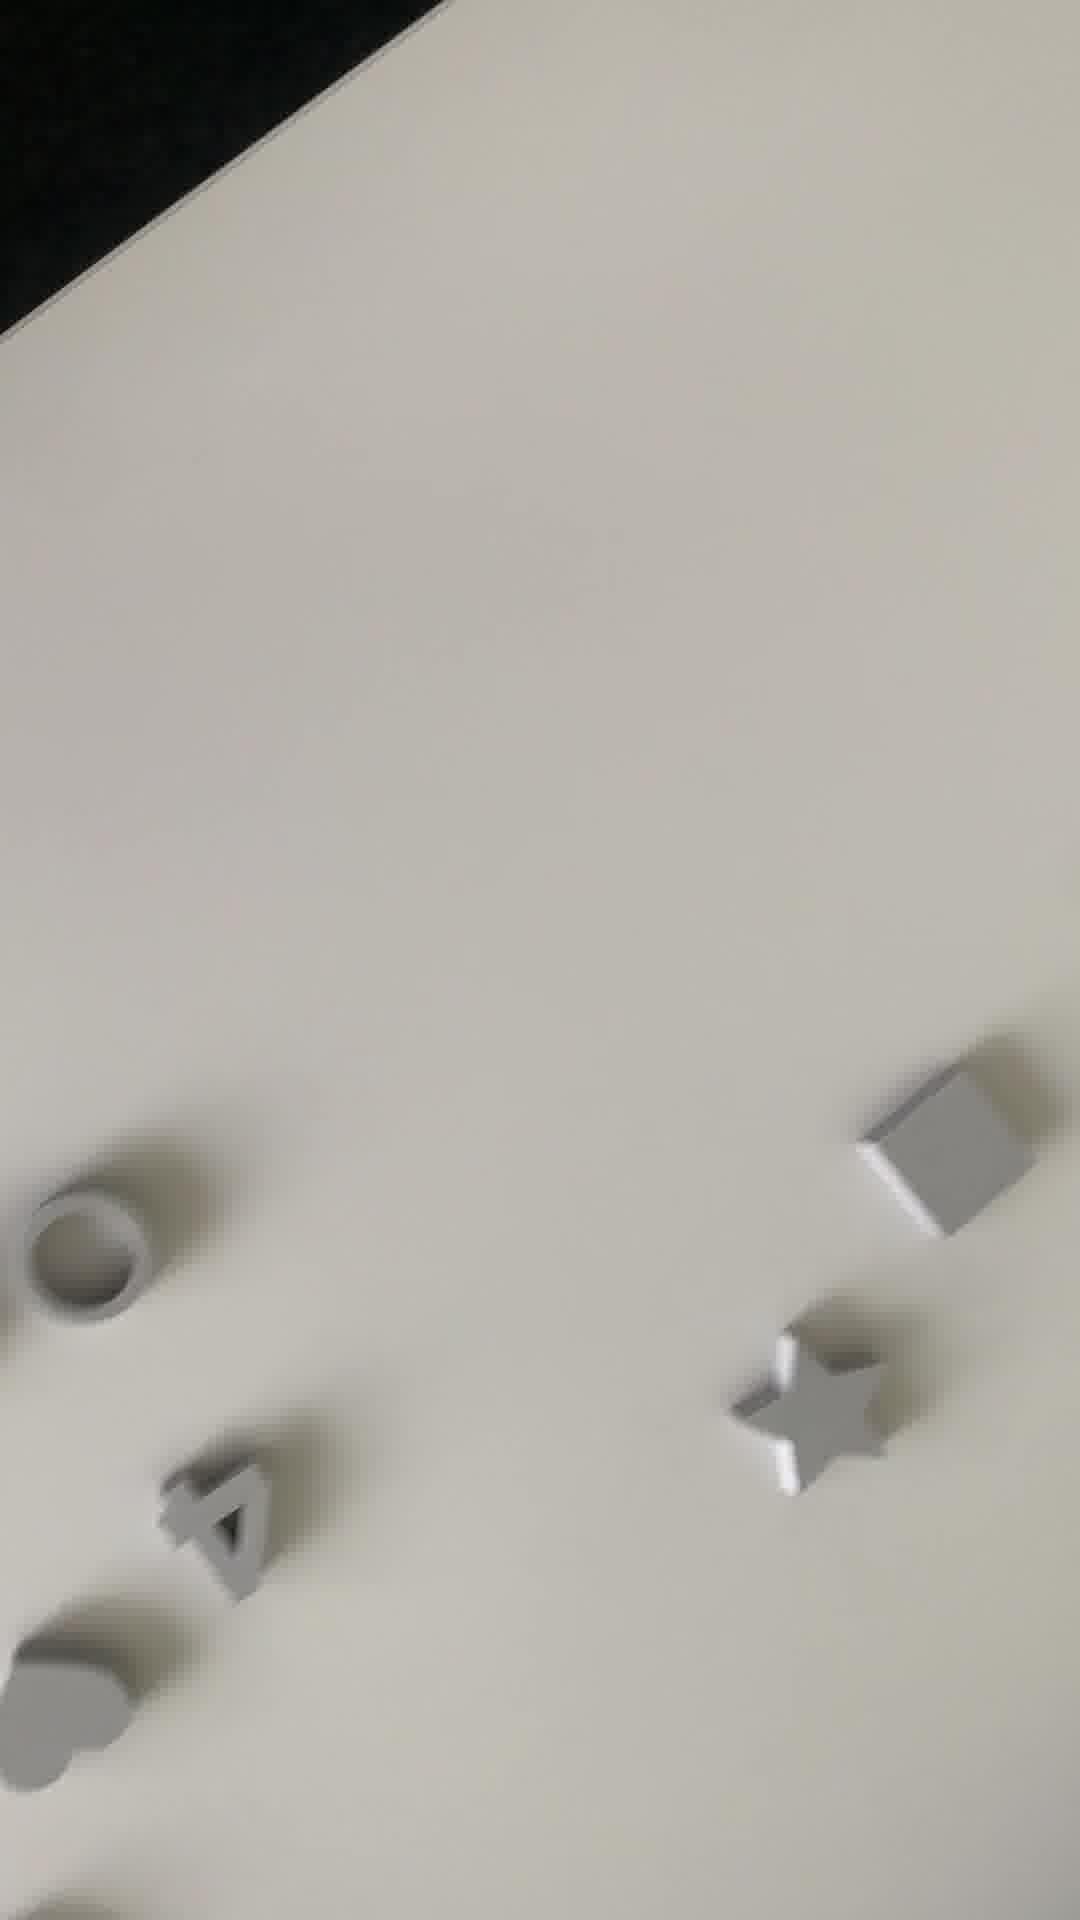Gray four: (156, 1455, 282, 1614)
Gray heart: (1, 1652, 135, 1801)
Gray ring: (24, 1187, 165, 1331)
Gray square: (855, 1052, 1031, 1232)
Gray star: (727, 1312, 898, 1524)
